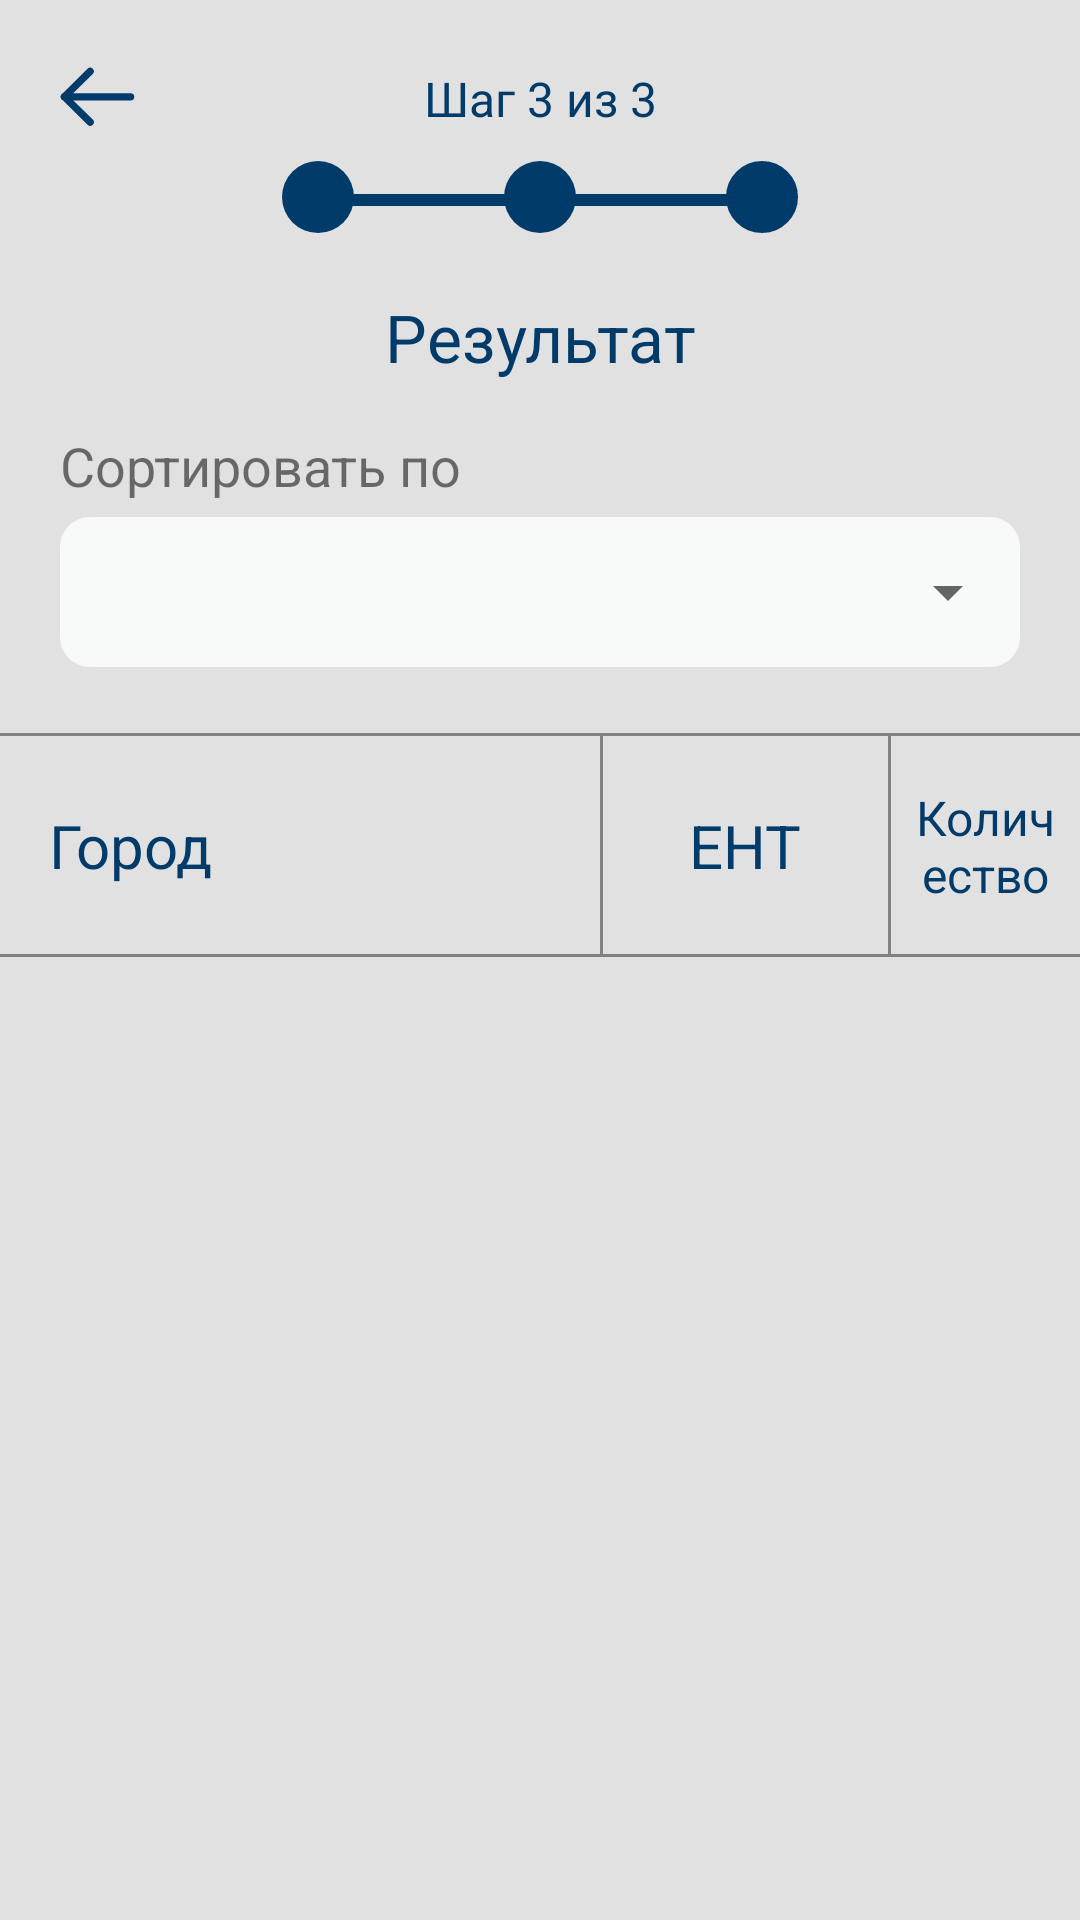

Screen size 1080px x 1920px. Icon name, then its box in pixels as (x1, y1, x2, y2):
back cursor: (60, 67, 135, 126)
